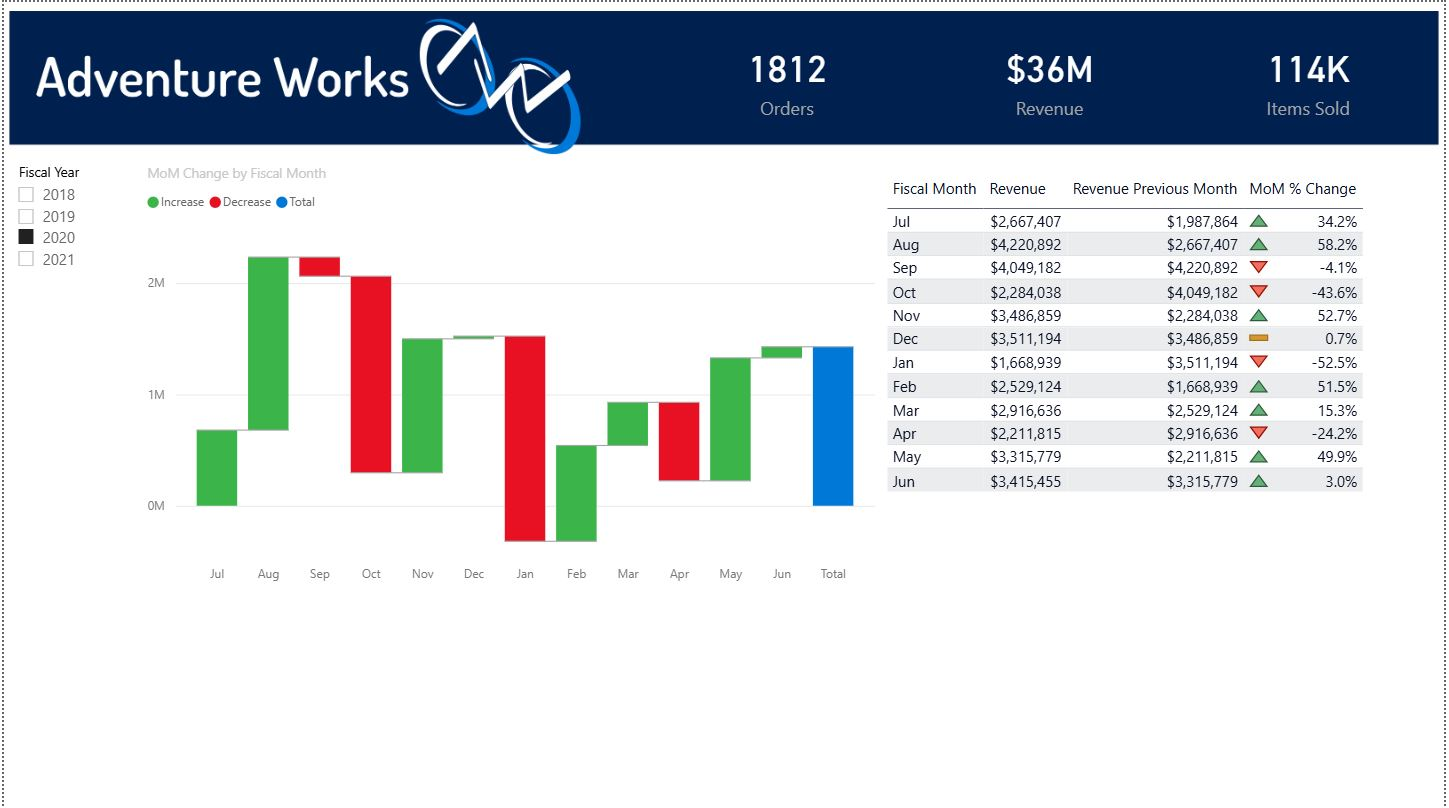

What the dashboard file says about the page in this screenshot:
{"tool":"powerbi","page":{"name":"Sales Trends","canvas":[1280,720],"ordinal":1},"visuals":[{"type":"image","box":[0,0,1280,143.1],"z":0},{"type":"card","fields":{"Values":["Order_Items.Orders"]},"box":[594.6,16.3,203.6,102.4],"z":1000},{"type":"card","fields":{"Values":["Order_Items.Revenue"]},"box":[827.3,16.3,203.6,102.4],"z":2000},{"type":"card","fields":{"Values":["Order_Items.Items Sold"]},"box":[1057.7,16.3,203.6,102.4],"z":3000},{"type":"slicer","fields":{"Values":["Calendar.Fiscal Year"]},"box":[0,137.8,143.6,160],"z":4000},{"type":"waterfallChart","fields":{"Category":["Calendar.Fiscal Month"],"Y":["Order_Items.MoM Change"]},"box":[122,143.6,656.7,381.6],"z":5000},{"type":"tableEx","fields":{"Values":["Calendar.Fiscal Month","Order_Items.Revenue","Order_Items.Revenue Previous Month","Order_Items.MoM % Change"]},"box":[778.8,149.5,501.2,375.6],"z":6000}]}

Visuals, with their boxes in screenshot pixels (x1, y1, x2, y2), scaled from the page's 1280x720 canvas onto the 1449x808 screenshot:
image: 0, 0, 1448, 161
card - Order_Items.Orders: 673, 18, 904, 133
card - Order_Items.Revenue: 937, 18, 1167, 133
card - Order_Items.Items Sold: 1197, 18, 1428, 133
slicer - Calendar.Fiscal Year: 0, 155, 163, 334
waterfallChart - Calendar.Fiscal Month x Order_Items.MoM Change: 138, 161, 882, 589
tableEx - Calendar.Fiscal Month x Order_Items.Revenue: 882, 168, 1448, 589
